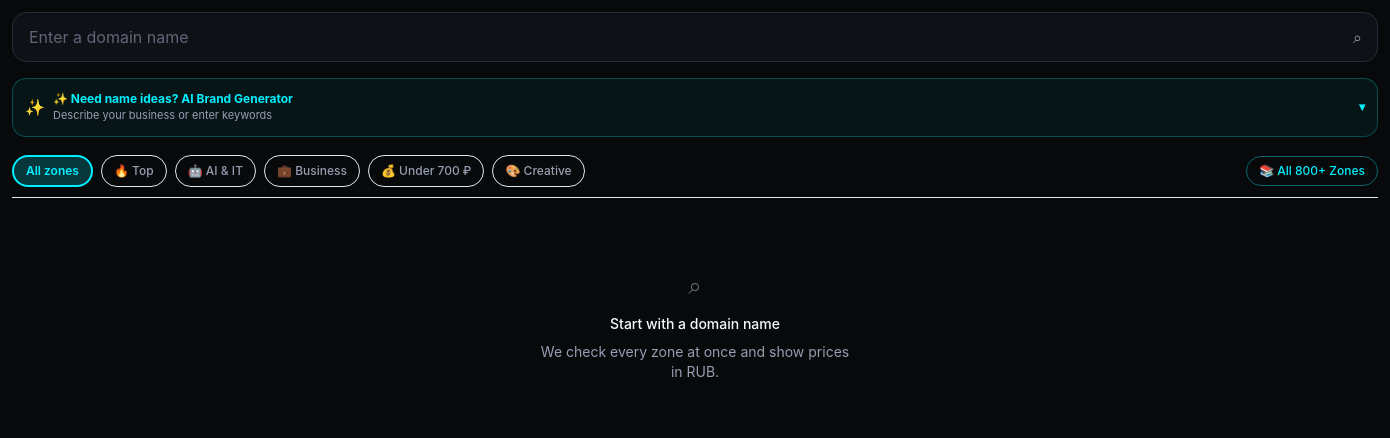
it: SearchScreen › keeps taken results visible but not buyable
The image size is (1390, 438).
Type "x" into the field labelled "Enter a domain name" at (695, 37), box top-left (12, 12), bottom-right (1378, 62)
Then press Enter
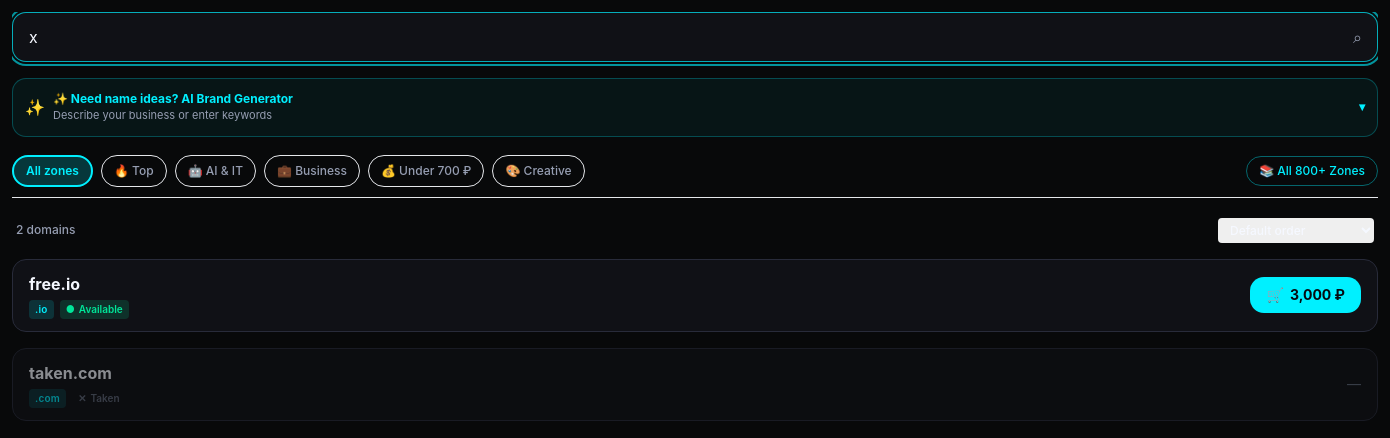
Check: the text "taken.com" is shown, box top-left (29, 362), bottom-right (112, 382)
Check: the text "Taken" is shown, box top-left (90, 390), bottom-right (120, 406)
Check: the number of buttons named "RUB" is 1, box top-left (1250, 277), bottom-right (1361, 313)
